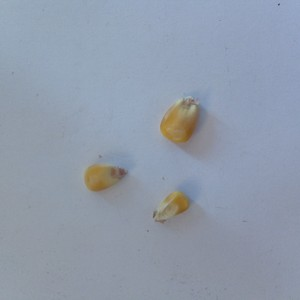maiz: (154, 92, 207, 150), (147, 185, 199, 227), (83, 159, 130, 197)
